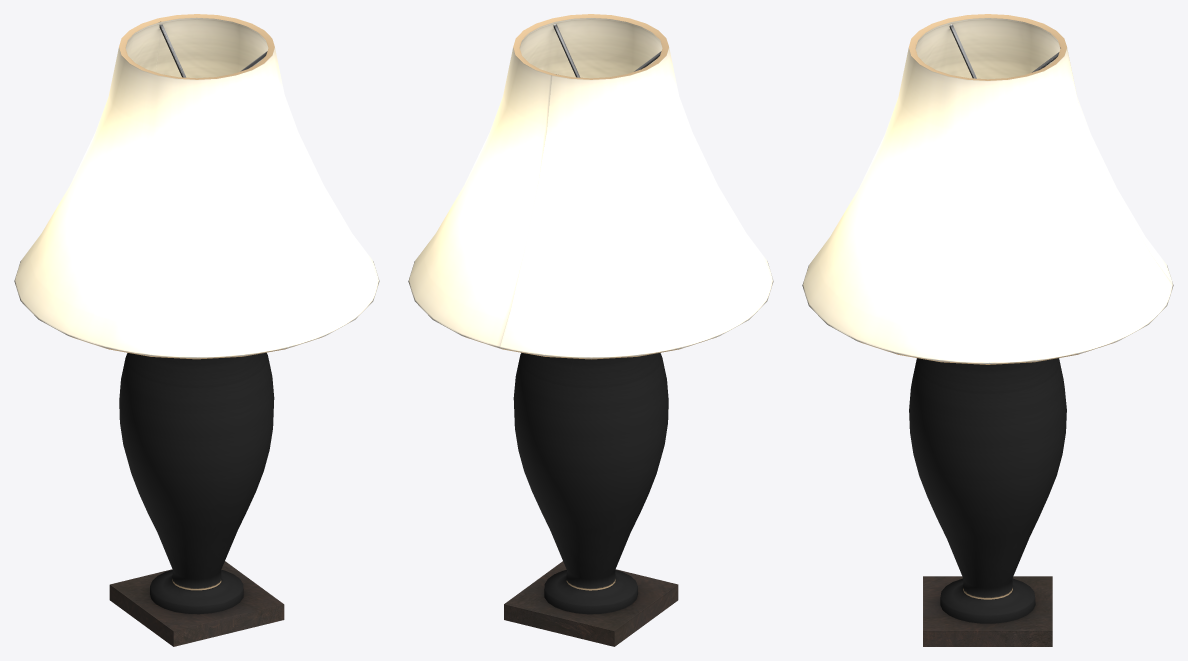
3 renders of one model, left to right at view 1: azimuth 30°, elevation 25°; view 2: azimuth 150°, elevation 25°; view 3: azimuth 270°, elevation 25°, orthographic.
Visible parts, largest first — view 1: Object_3; view 2: Object_3; view 3: Object_3.
Boxes of the visible parts, <box> form: Object_3: <box>14,14,379,646</box>; Object_3: <box>408,14,773,646</box>; Object_3: <box>802,14,1173,646</box>.
Size of the model in its own units: 27.46 by 46.69 by 27.46.
1 material, 1 textured.
